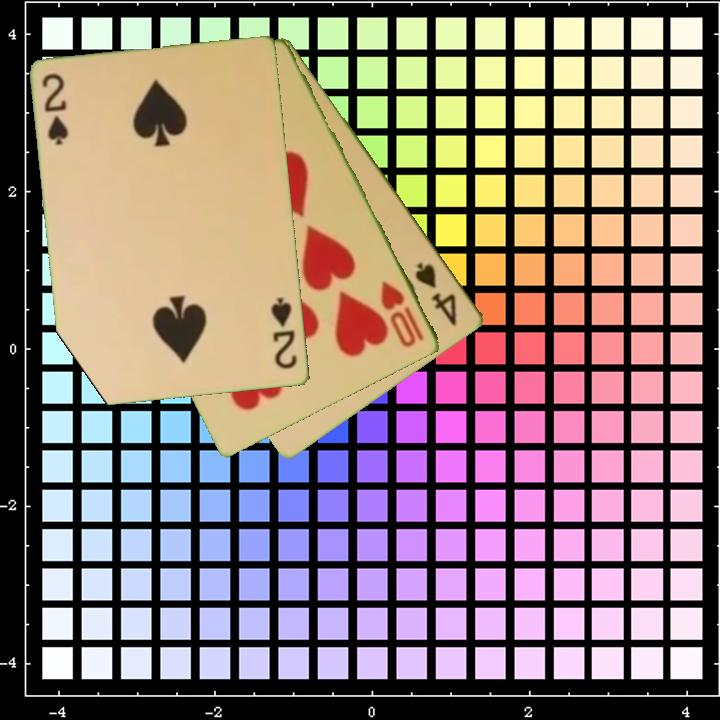10h: (378, 278, 428, 351)
2s: (268, 294, 301, 373), (39, 70, 72, 149)
4s: (412, 259, 461, 330)
